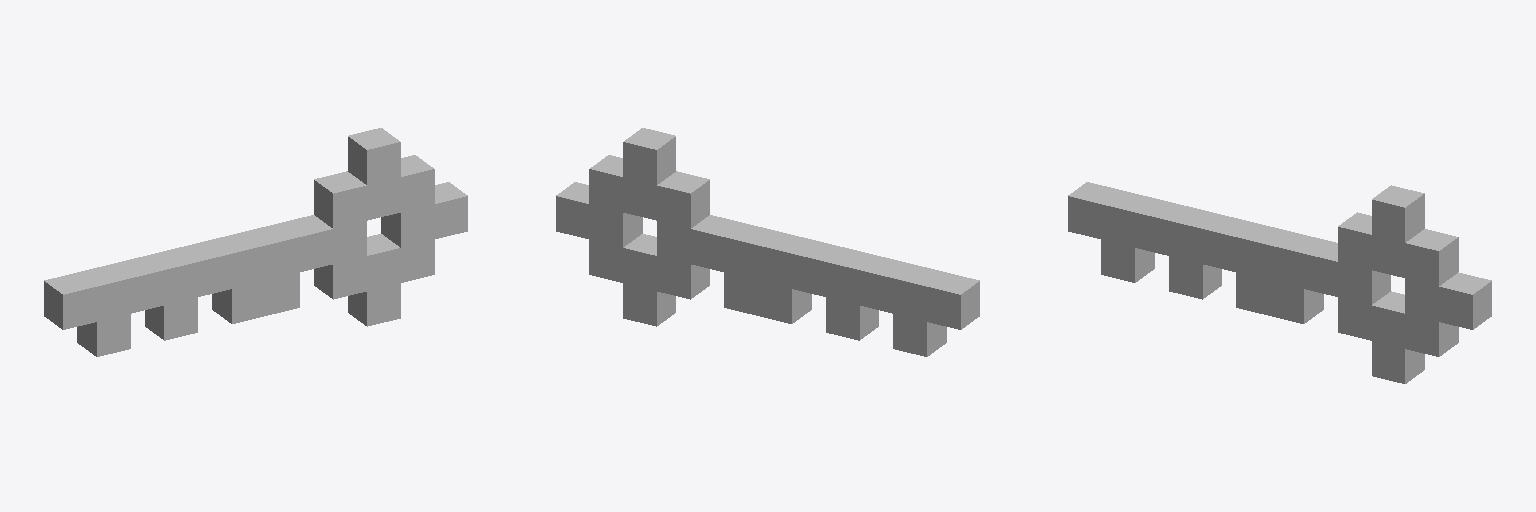
File: Gold Key.obj
The picture shows the model from 3 angles: view 1: azimuth 30°, elevation 25°; view 2: azimuth 150°, elevation 25°; view 3: azimuth 330°, elevation 25°; orthographic projection.
Visible parts, largest first — view 1: Gold Key; view 2: Gold Key; view 3: Gold Key.
Part boxes in pixels (left/top/right/bottom): Gold Key: left=44, top=128, right=467, bottom=356; Gold Key: left=556, top=128, right=979, bottom=356; Gold Key: left=1068, top=182, right=1491, bottom=383.
Bounding box in the file's own units: 12 × 5 × 1.